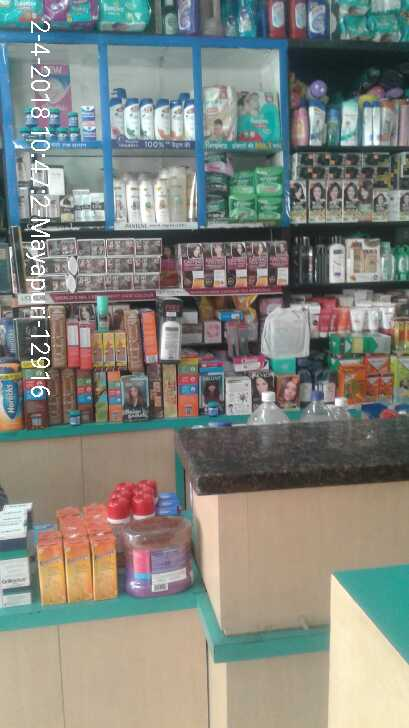vicks: (20, 104, 96, 140)
